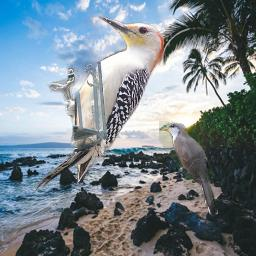Cuckoo: (159, 121, 220, 217)
Woodpecker: (34, 13, 168, 192)
